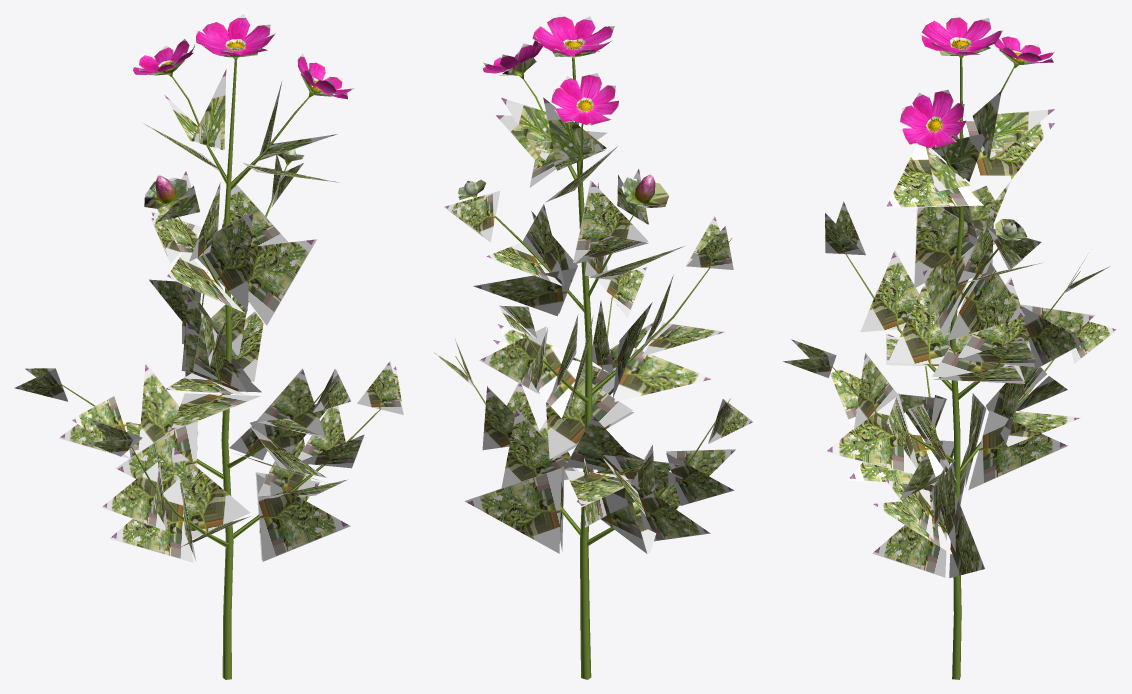
File: Cosmos1B-bloomer.fbx
3 views of the same model, side by side, from view 1: azimuth 30°, elevation 25°; view 2: azimuth 150°, elevation 25°; view 3: azimuth 270°, elevation 25° (orthographic).
Parts seen in each view (by area): view 1: Cosmos1B-bloomer; view 2: Cosmos1B-bloomer; view 3: Cosmos1B-bloomer.
Part boxes in pixels (bbox=[...]): Cosmos1B-bloomer: bbox=[14, 14, 403, 679]; Cosmos1B-bloomer: bbox=[433, 14, 752, 679]; Cosmos1B-bloomer: bbox=[783, 14, 1117, 679].
Bounding box in the file's own units: 68.03 × 133 × 61.81.
